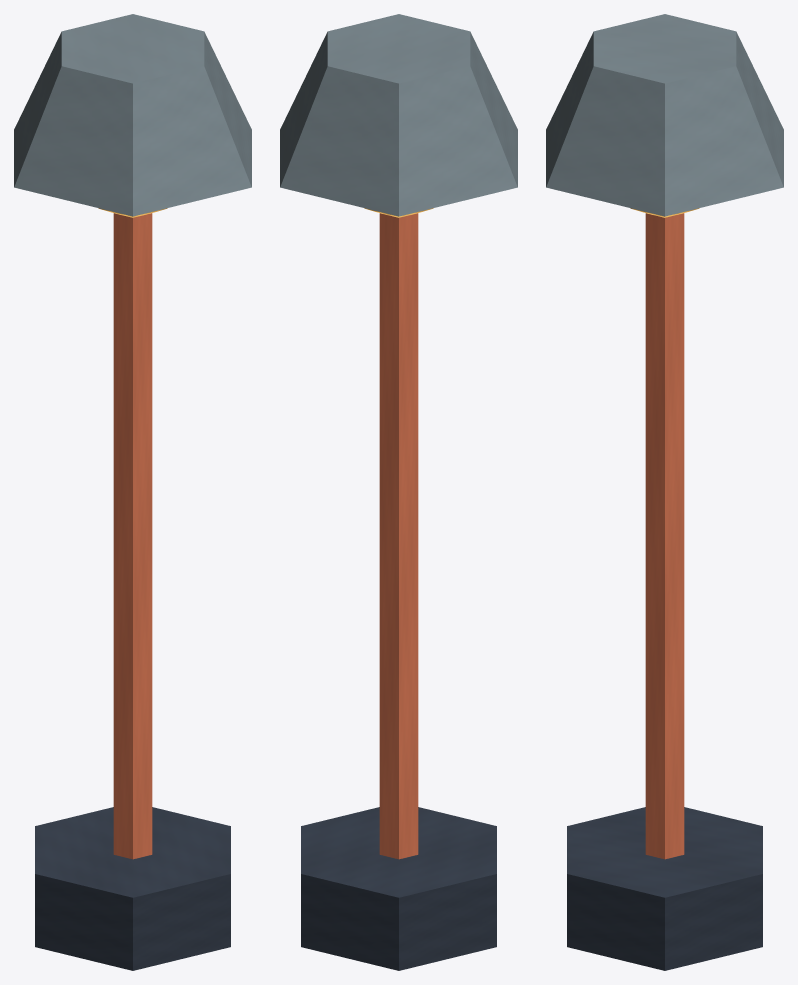
Rendered from atlas100-basalt-util01.glb.
The picture shows the model from 3 angles, left to right: view 1: azimuth 30°, elevation 25°; view 2: azimuth 150°, elevation 25°; view 3: azimuth 270°, elevation 25°; orthographic projection.
Visible parts, largest first — view 1: atlas100-basalt-util01:part-002, atlas100-basalt-util01:part-000, atlas100-basalt-util01:part-001; view 2: atlas100-basalt-util01:part-002, atlas100-basalt-util01:part-000, atlas100-basalt-util01:part-001; view 3: atlas100-basalt-util01:part-002, atlas100-basalt-util01:part-000, atlas100-basalt-util01:part-001.
Boxes of the visible parts, x1,y1,x2,y2 form: atlas100-basalt-util01:part-002: (14, 14, 251, 216); atlas100-basalt-util01:part-000: (35, 807, 230, 970); atlas100-basalt-util01:part-001: (113, 213, 152, 859); atlas100-basalt-util01:part-002: (280, 14, 517, 216); atlas100-basalt-util01:part-000: (301, 807, 496, 970); atlas100-basalt-util01:part-001: (379, 213, 418, 859); atlas100-basalt-util01:part-002: (546, 14, 783, 216); atlas100-basalt-util01:part-000: (567, 807, 762, 970); atlas100-basalt-util01:part-001: (645, 213, 684, 859).
Size of the model in its own units: 0.6956 by 2.44 by 0.6024.
4 materials, 4 textured.
